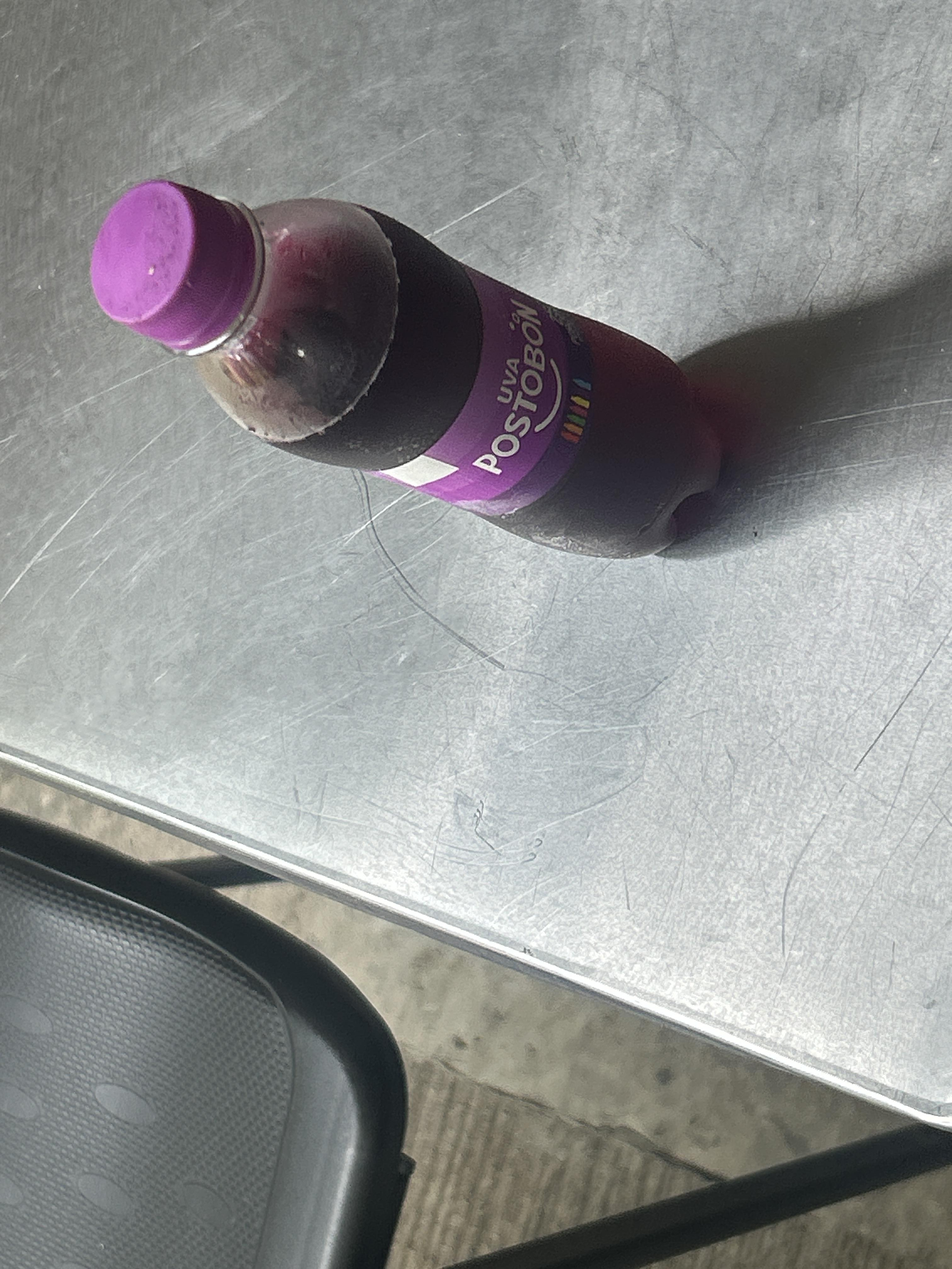uva: (91, 180, 719, 557)
